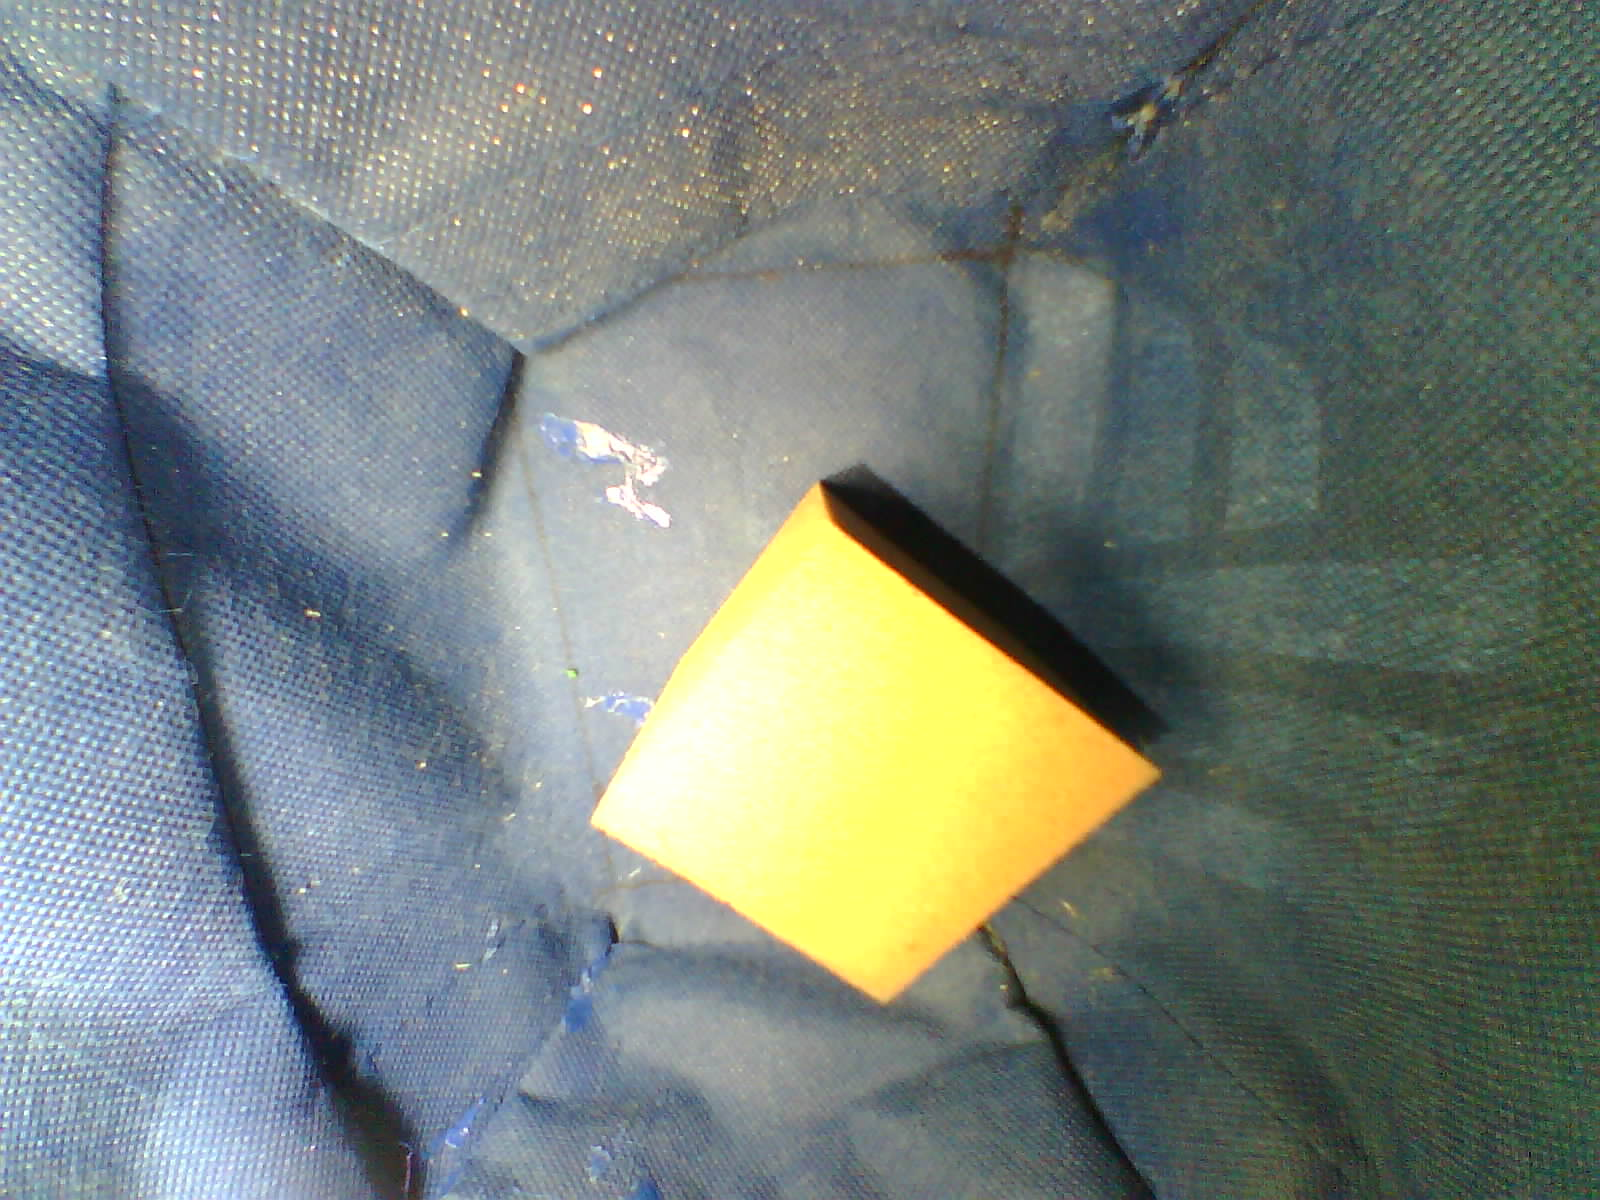cube-soft: (567, 466, 1179, 1036)
